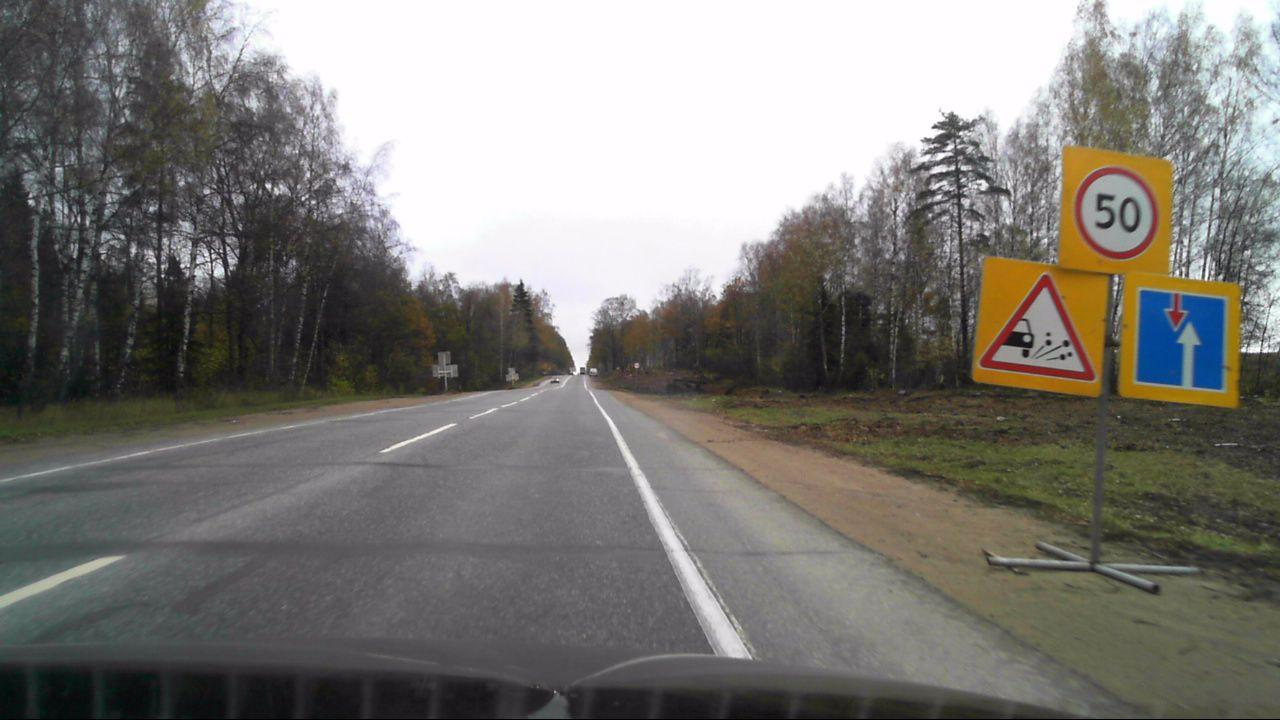1_18: (980, 263, 1100, 384)
2_7: (1131, 287, 1231, 392)
3_24: (1074, 164, 1161, 259)
